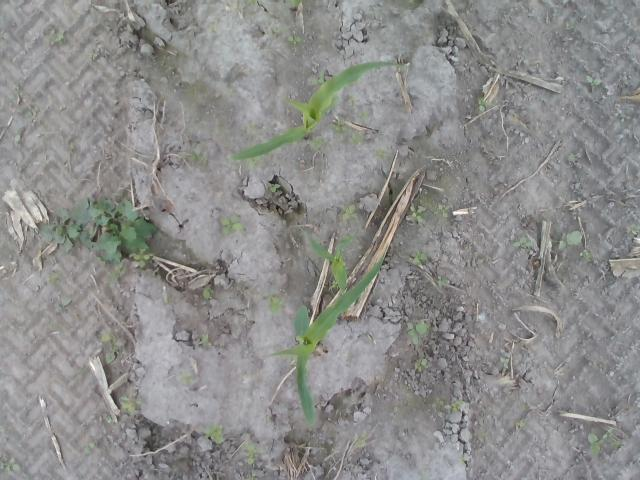Maize: (266, 256, 384, 428), (229, 60, 407, 162), (300, 228, 353, 297)
Weeds: (36, 195, 158, 269), (408, 203, 450, 224), (100, 328, 120, 365), (118, 394, 144, 417), (406, 320, 429, 345), (221, 214, 247, 236), (586, 431, 606, 458), (242, 441, 264, 465), (559, 230, 585, 250), (432, 396, 464, 412), (0, 454, 22, 477), (328, 118, 352, 137), (339, 204, 360, 223), (207, 423, 225, 444), (279, 0, 301, 17), (266, 294, 284, 314), (606, 424, 620, 449), (106, 269, 124, 288), (412, 248, 432, 265), (512, 233, 532, 250), (46, 270, 62, 290), (576, 248, 594, 264), (373, 144, 390, 160), (586, 74, 602, 91), (309, 135, 325, 150), (478, 97, 494, 112), (247, 121, 264, 135), (355, 430, 368, 448), (288, 34, 304, 48), (48, 33, 65, 46), (202, 286, 214, 304), (415, 358, 428, 374), (82, 440, 96, 454), (626, 222, 640, 236), (500, 350, 510, 368), (271, 23, 289, 33), (310, 72, 325, 84), (179, 371, 192, 384), (352, 132, 364, 144), (344, 231, 356, 242), (359, 110, 369, 122), (246, 0, 260, 8), (192, 150, 202, 161), (15, 128, 21, 145), (248, 158, 257, 169), (437, 276, 449, 284), (24, 110, 33, 120), (271, 184, 281, 192), (200, 334, 208, 344), (516, 420, 525, 428), (246, 473, 256, 480), (228, 88, 235, 98), (163, 295, 170, 304), (104, 416, 111, 424), (332, 280, 339, 288), (460, 454, 465, 464)
